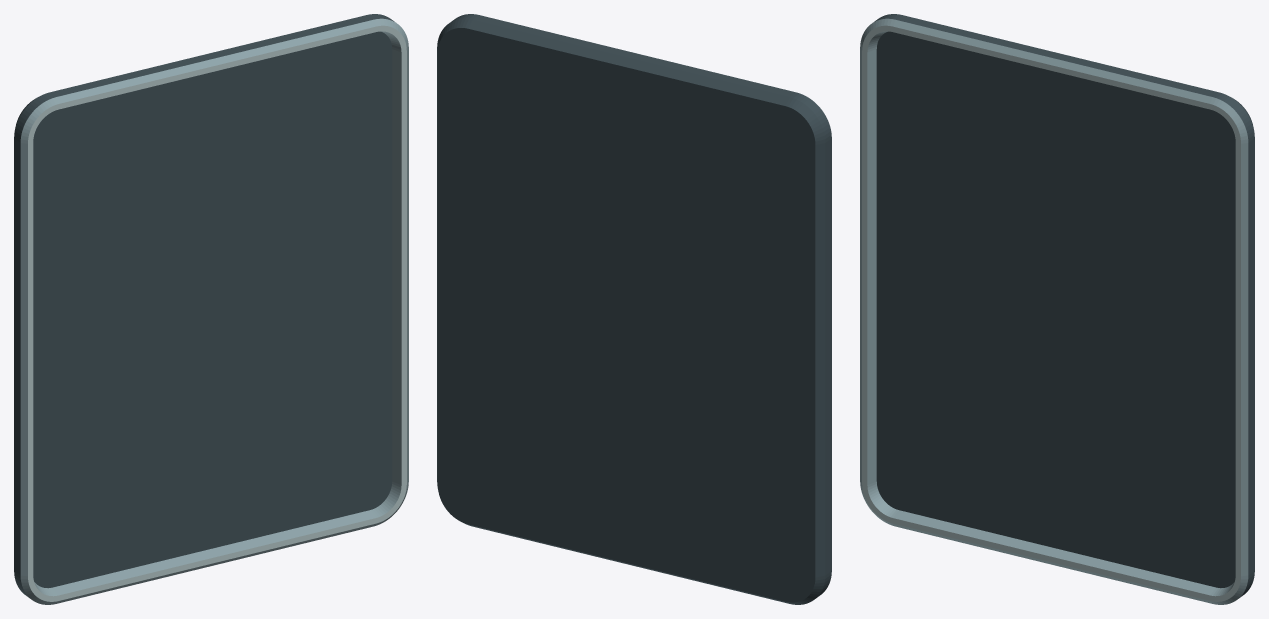
Rendered from studio_card_frame.glb.
3 renders of one model, left to right at view 1: azimuth 30°, elevation 25°; view 2: azimuth 150°, elevation 25°; view 3: azimuth 330°, elevation 25°, orthographic.
Parts seen in each view (by area): view 1: studio_card_frame; view 2: studio_card_frame; view 3: studio_card_frame.
Part boxes in pixels (bbox=[...]): studio_card_frame: bbox=[14, 14, 408, 604]; studio_card_frame: bbox=[437, 14, 831, 604]; studio_card_frame: bbox=[860, 14, 1254, 604].
Size of the model in its own units: 0.93 by 1.16 by 0.057.
